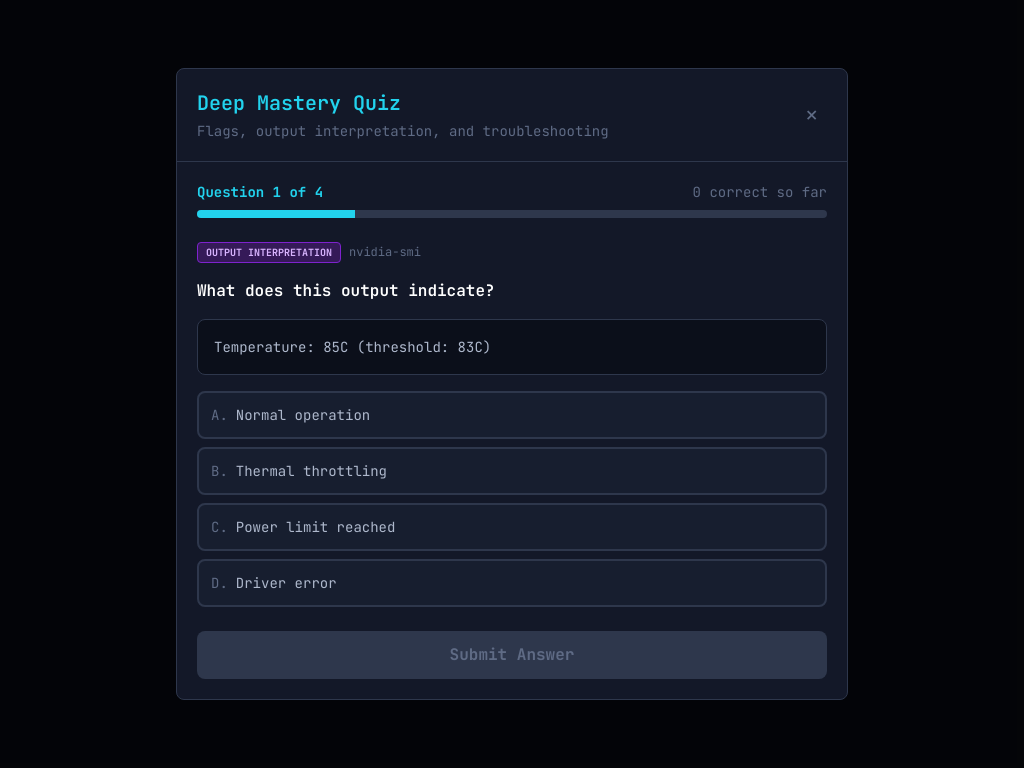
Scenario: ToolMasteryQuiz › shows feedback after submitting an answer
Click the button "A.Normal operation": (303, 415) [197,391,827,439]
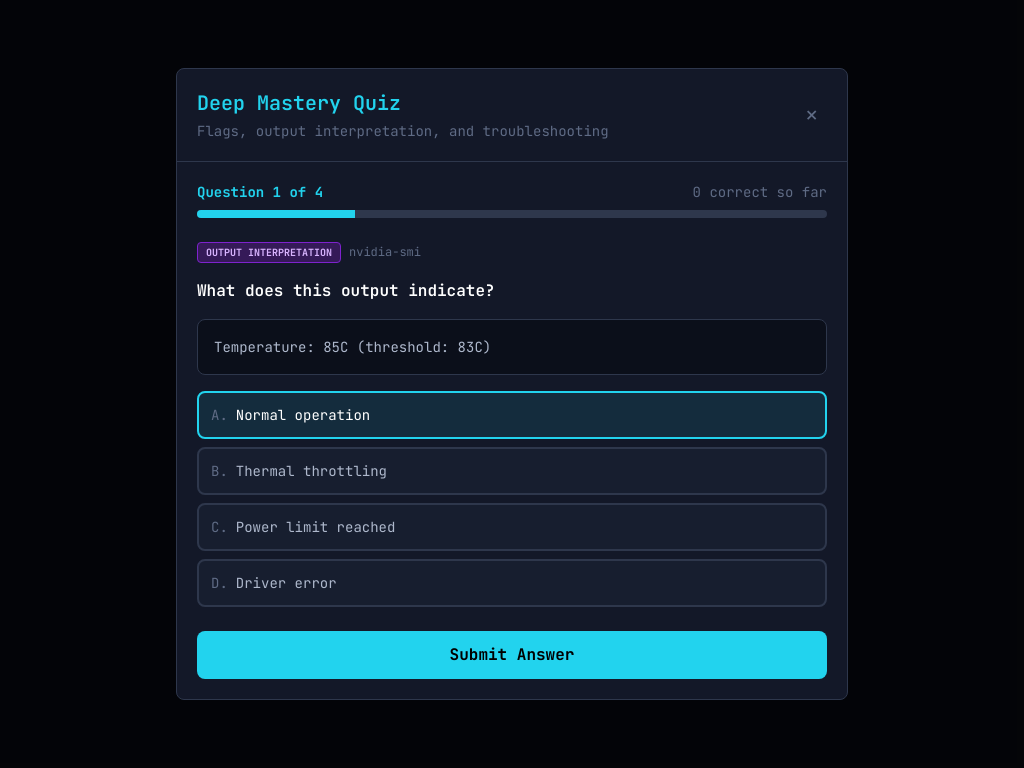
Click the button "Submit Answer": (512, 655) [197,631,827,679]
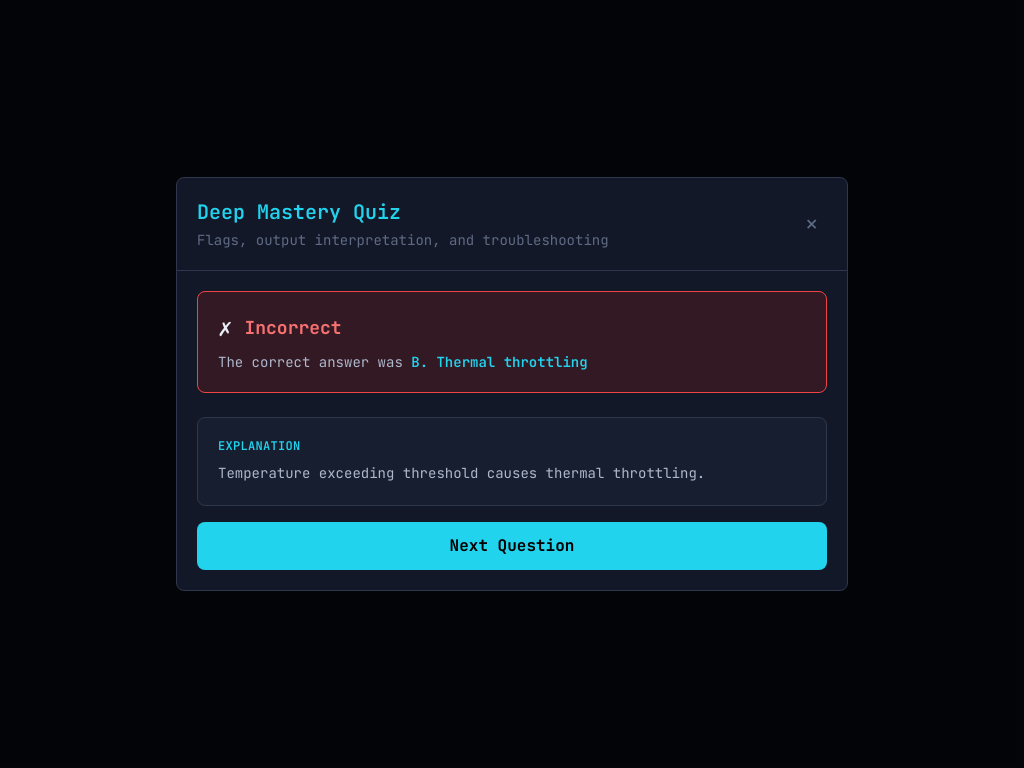
Now the text "Incorrect" is shown, box [244,314,342,342]
